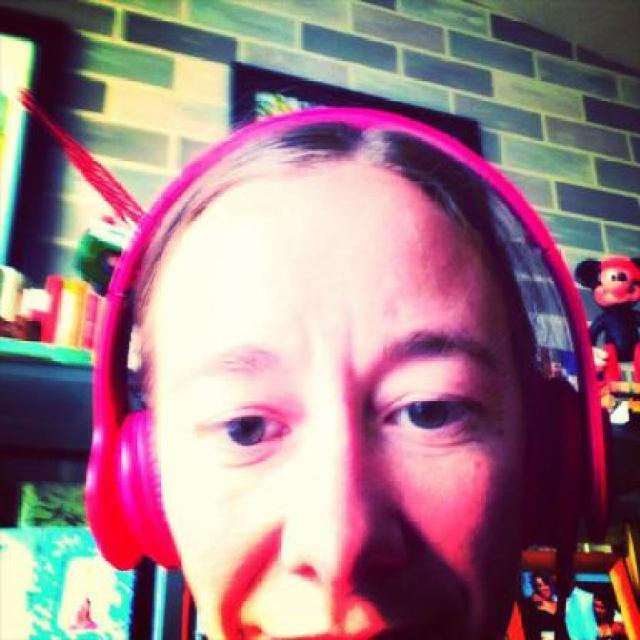earphone: (64, 58, 614, 572)
